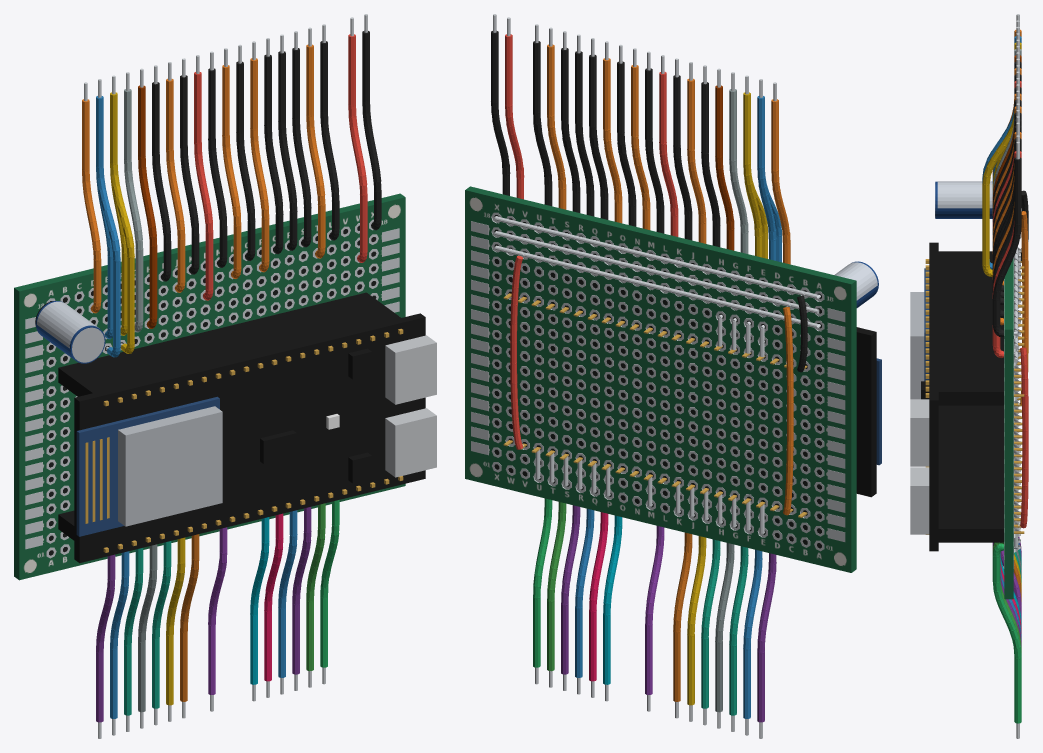
The model's file is perfboard.glb.
The picture shows the model from 3 angles, left to right: view 1: azimuth 30°, elevation 25°; view 2: azimuth 150°, elevation 25°; view 3: azimuth 270°, elevation 25°; orthographic projection. The views are drawn at different scales.
Parts seen in each view (by area): view 1: esp32_pcb_black, silk_top, wire_222, copper, esp32_shield, header, wire_e67e22, esp32_usb, wire_2e86c1, esp32_header, esp32_pcb_blue, wire_d4ac0d (+18 smaller); view 2: silk_under, copper, wire_222, solder, wire_e67e22, wire_2e86c1, wire_e74c3c, board, esp32_pcb_black, wire_d4ac0d, wire_7d3c98, gold (+12 smaller); view 3: header, esp32_header, wire_222, board, esp32_pcb_black, esp32_usb, solder, wire_e67e22, wire_e74c3c, esp32_shield, wire_27ae60, wire_d4ac0d (+11 smaller).
Part boxes in pixels (bbox=[...]): esp32_pcb_black: bbox=[74, 313, 425, 563]; silk_top: bbox=[19, 197, 405, 580]; wire_222: bbox=[152, 31, 381, 281]; copper: bbox=[25, 219, 399, 558]; esp32_shield: bbox=[118, 406, 222, 526]; header: bbox=[35, 292, 393, 540]; wire_e67e22: bbox=[82, 44, 325, 313]; esp32_usb: bbox=[385, 335, 436, 477]; wire_2e86c1: bbox=[96, 96, 297, 718]; esp32_header: bbox=[85, 312, 400, 483]; esp32_pcb_blue: bbox=[76, 396, 219, 536]; wire_d4ac0d: bbox=[110, 92, 185, 705]; silk_under: bbox=[465, 190, 851, 572]; copper: bbox=[471, 212, 845, 551]; wire_222: bbox=[491, 31, 807, 372]; solder: bbox=[491, 14, 821, 738]; wire_e67e22: bbox=[547, 44, 793, 515]; wire_2e86c1: bbox=[575, 96, 781, 718]; wire_e74c3c: bbox=[505, 34, 678, 449]; board: bbox=[465, 186, 856, 572]; esp32_pcb_black: bbox=[856, 327, 876, 497]; wire_d4ac0d: bbox=[687, 92, 767, 705]; wire_7d3c98: bbox=[561, 505, 776, 722]; gold: bbox=[503, 293, 807, 517]; header: bbox=[953, 251, 1003, 542]; esp32_header: bbox=[921, 251, 953, 542]; wire_222: bbox=[992, 61, 1028, 336]; board: bbox=[1004, 258, 1013, 599]; esp32_pcb_black: bbox=[929, 242, 938, 551]; esp32_usb: bbox=[910, 399, 929, 534]; solder: bbox=[1014, 14, 1021, 738]; wire_e67e22: bbox=[992, 29, 1028, 404]; wire_e74c3c: bbox=[992, 81, 1028, 528]; esp32_shield: bbox=[910, 292, 924, 399]; wire_27ae60: bbox=[992, 543, 1021, 723]; wire_d4ac0d: bbox=[982, 42, 1021, 588].
Bounding box in the file's own units: 70 × 114 × 19.92.
32 materials, 2 textured.
